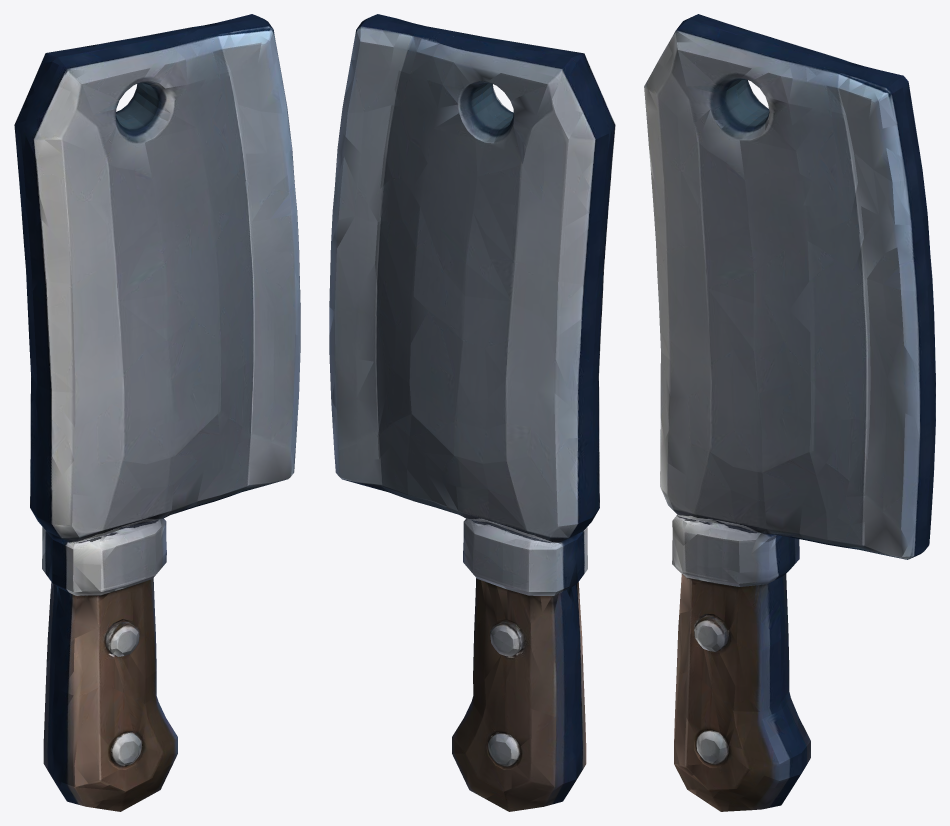
Rendered from w_cleaver.glb.
3 renders of one model, left to right at view 1: azimuth 30°, elevation 25°; view 2: azimuth 150°, elevation 25°; view 3: azimuth 330°, elevation 25°, orthographic.
Visible parts, largest first — view 1: Weapon; view 2: Weapon; view 3: Weapon.
Boxes of the visible parts, bbox=[...] form: Weapon: bbox=[14, 14, 300, 811]; Weapon: bbox=[329, 14, 615, 811]; Weapon: bbox=[644, 14, 935, 811].
Bounding box in the file's own units: 0.3708 × 0.9806 × 0.1173.
Materials: 1 (1 with a texture image).
